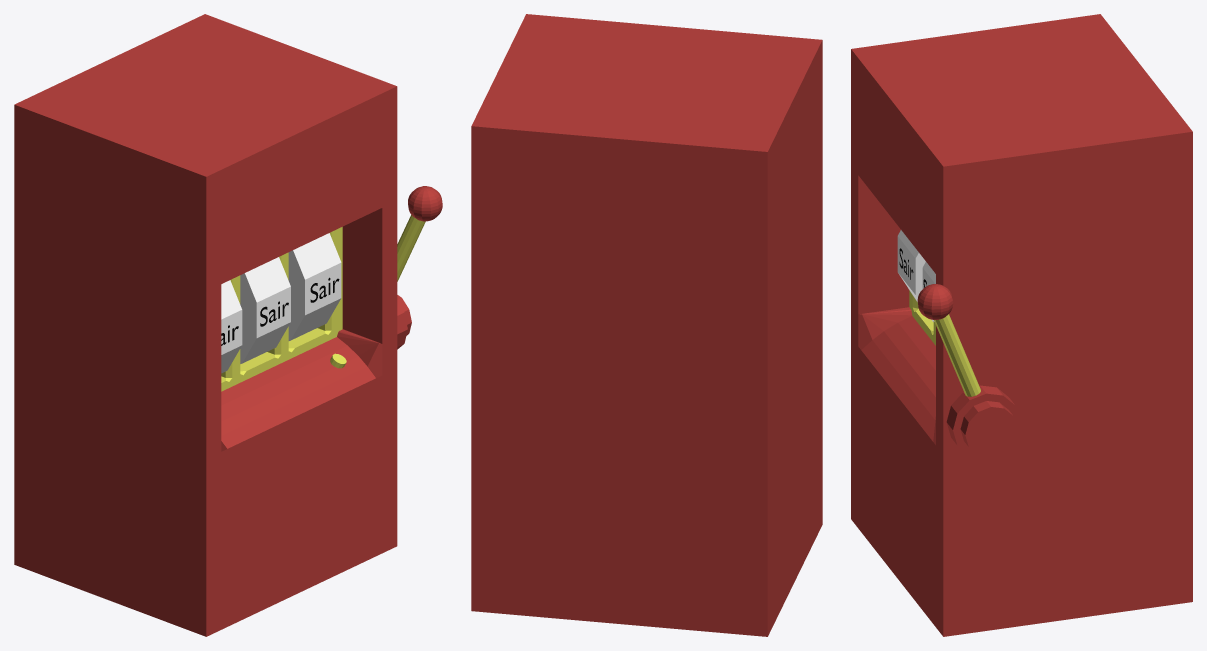
Rendered from opçoes.fbx.
3 renders of one model, left to right at view 1: azimuth 30°, elevation 25°; view 2: azimuth 150°, elevation 25°; view 3: azimuth 270°, elevation 25°, orthographic. The views are drawn at different scales.
Parts seen in each view (by area): view 1: carapaça_da_maquina, rodas_figuras, contorno_rodas_figura, ponho_alavanca; view 2: carapaça_da_maquina; view 3: carapaça_da_maquina, ponho_alavanca, rodas_figuras, contorno_rodas_figura.
Part boxes in pixels (x1,y1,x2,y2): carapaça_da_maquina: [14, 14, 397, 636]; rodas_figuras: [221, 233, 341, 373]; contorno_rodas_figura: [221, 227, 342, 391]; ponho_alavanca: [397, 186, 442, 349]; carapaça_da_maquina: [471, 14, 822, 636]; carapaça_da_maquina: [851, 14, 1192, 636]; ponho_alavanca: [917, 284, 1019, 457]; rodas_figuras: [897, 230, 935, 321]; contorno_rodas_figura: [909, 290, 935, 345].
Size of the model in its own units: 85.86 by 109 by 72.
